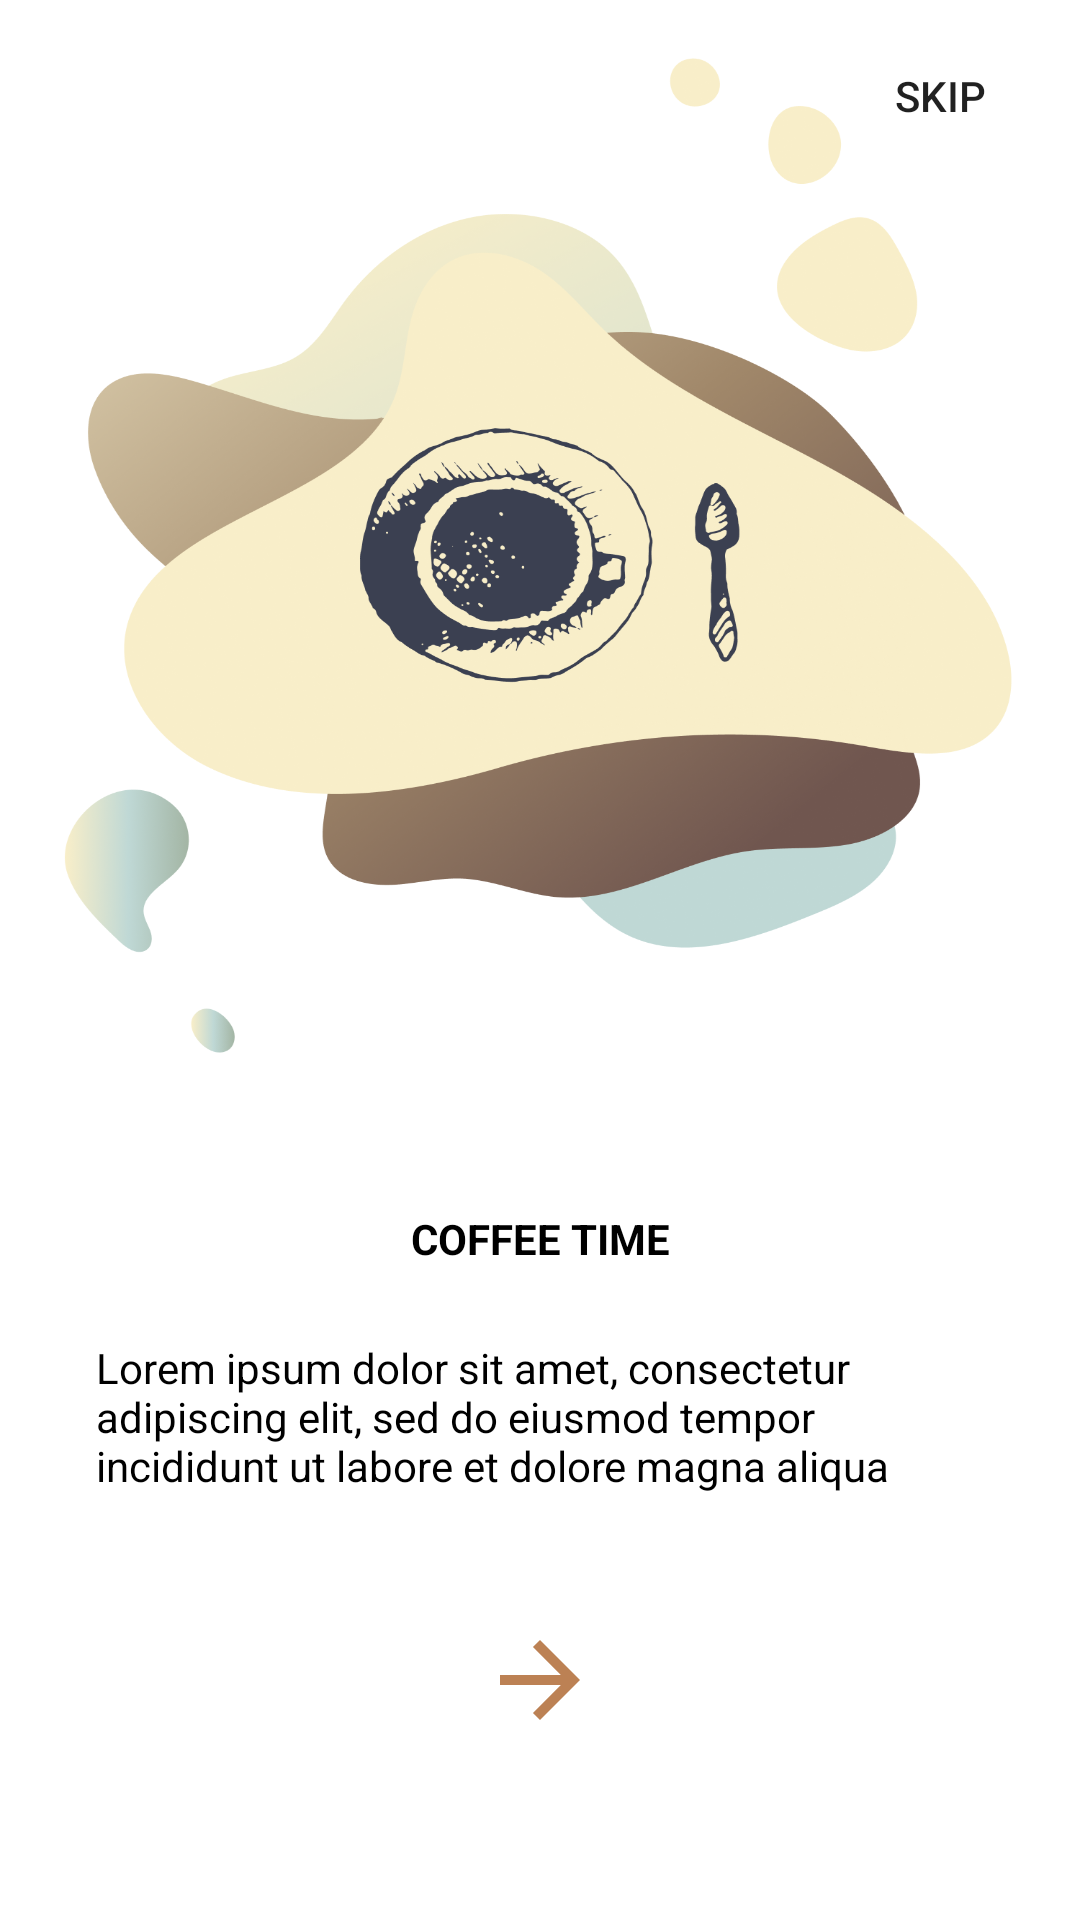

Screen size 1080px×1920px. Icon name, then its center in pixels as [x,y]:
arrow forward: [540,1680]
